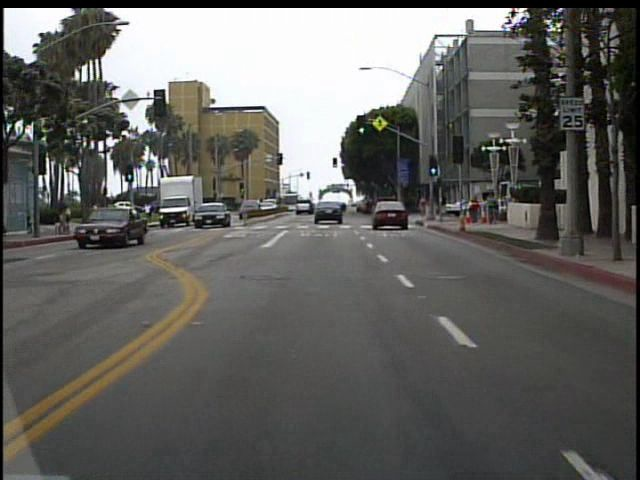person: (88, 195, 106, 237)
